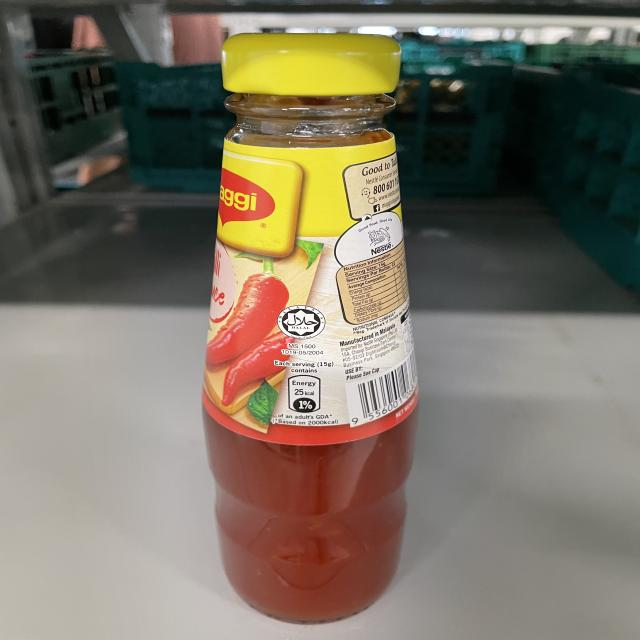object_name: (235, 39, 399, 619)
